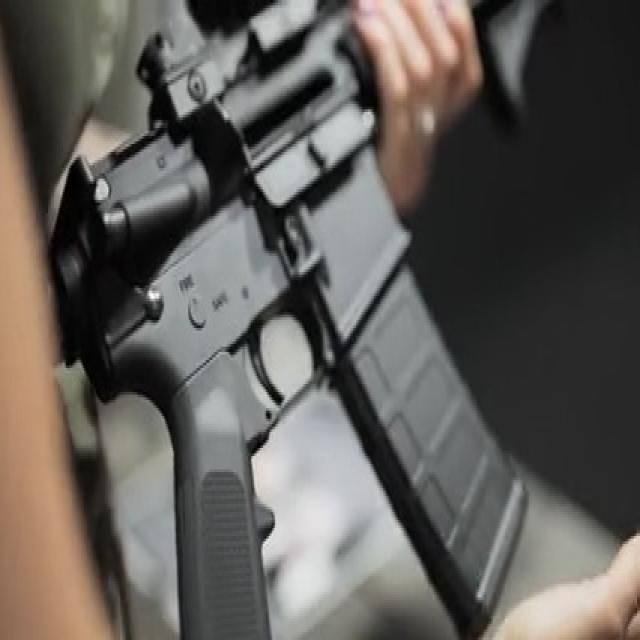Gun_Holder: (53, 17, 580, 626)
